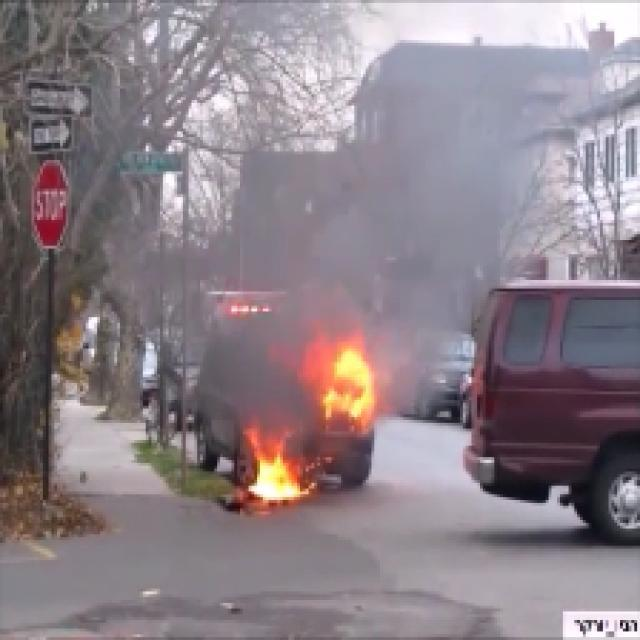Fire: (320, 351, 373, 432), (255, 441, 299, 504)
Smoke: (278, 162, 444, 348)
